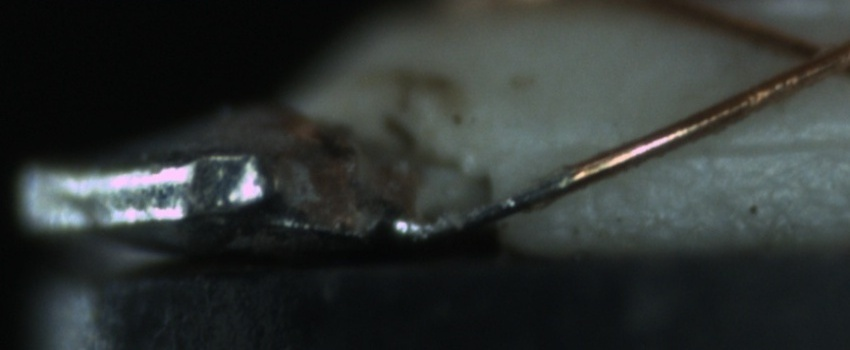CL: (770, 24, 850, 89)
DL: (678, 111, 847, 178)
TS: (390, 170, 579, 242)
TTCW: (381, 153, 613, 245)
